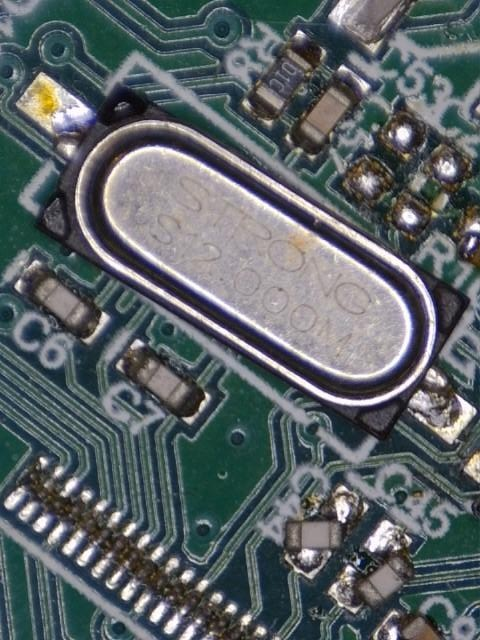pcb_defect: (15, 72, 479, 445), (328, 518, 417, 615), (284, 484, 370, 580), (371, 608, 444, 640)
